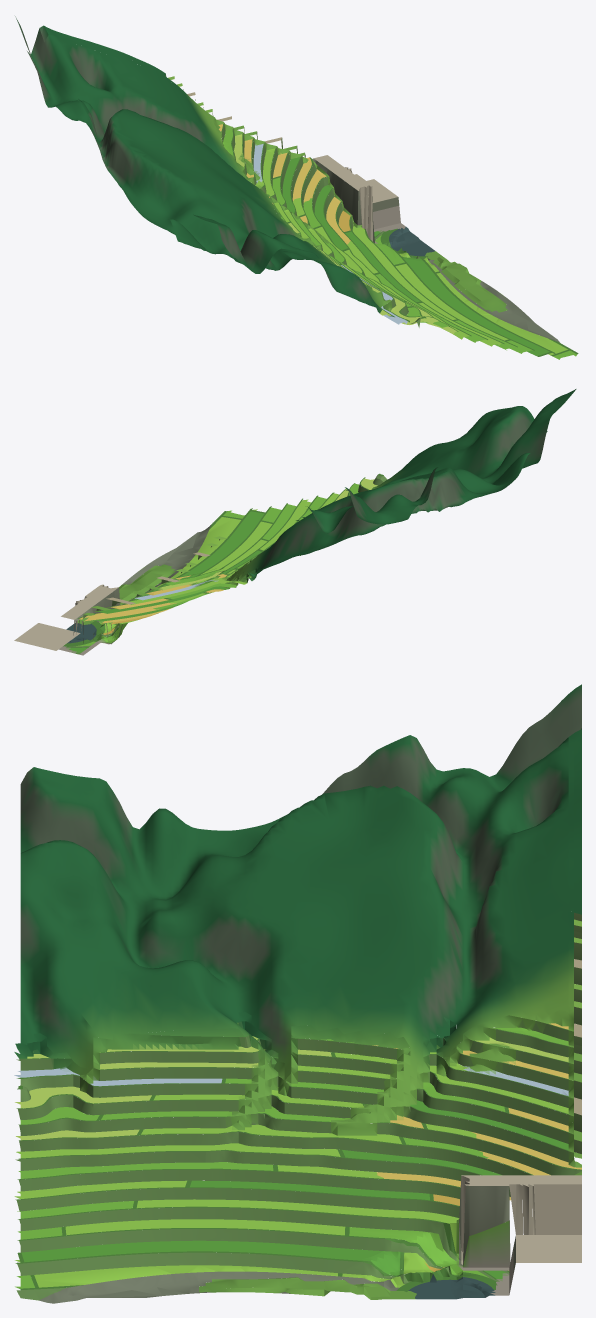
The model's file is payo_land_x0_y0_lod1.glb.
3 renders of one model, top to bottom at view 1: azimuth 30°, elevation 25°; view 2: azimuth 150°, elevation 25°; view 3: azimuth 270°, elevation 25°, orthographic. The views are drawn at different scales.
Visible parts, largest first — view 1: payo_land_x0_y0; view 2: payo_land_x0_y0; view 3: payo_land_x0_y0.
Boxes of the visible parts, left/top/right/bottom form: payo_land_x0_y0: left=15, top=16, right=578, bottom=359; payo_land_x0_y0: left=14, top=389, right=576, bottom=655; payo_land_x0_y0: left=14, top=684, right=581, bottom=1303.
Size of the model in its own units: 255 by 192 by 258.
